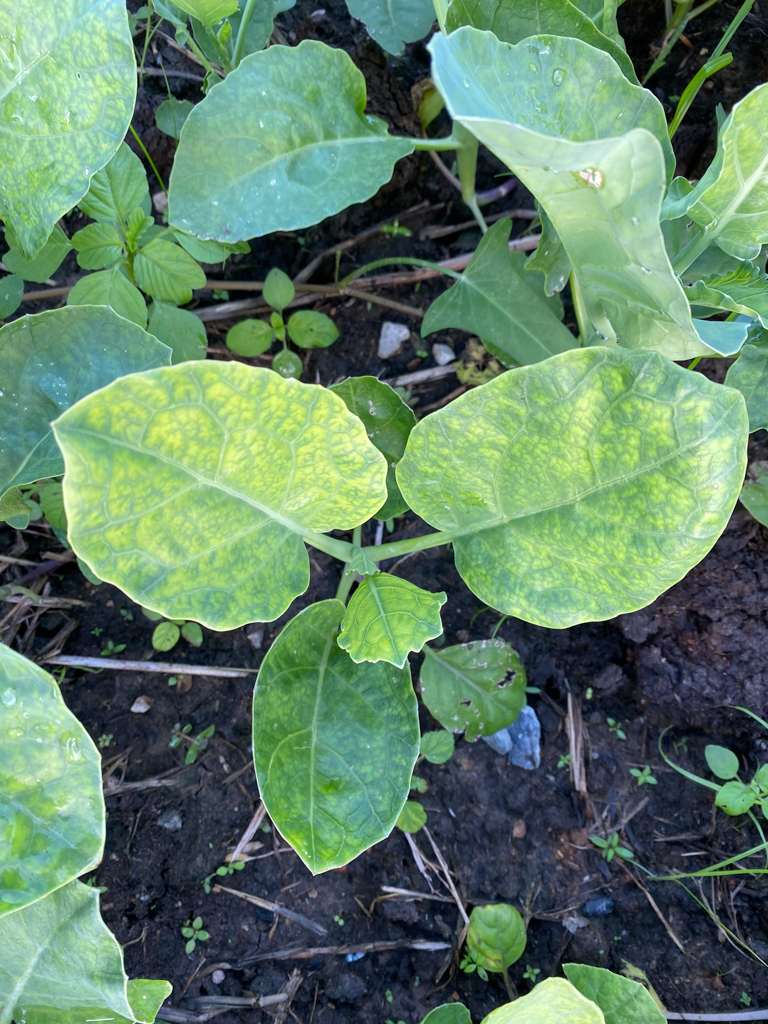Pepper yellow leaf: (45, 359, 384, 642), (443, 389, 744, 588)
